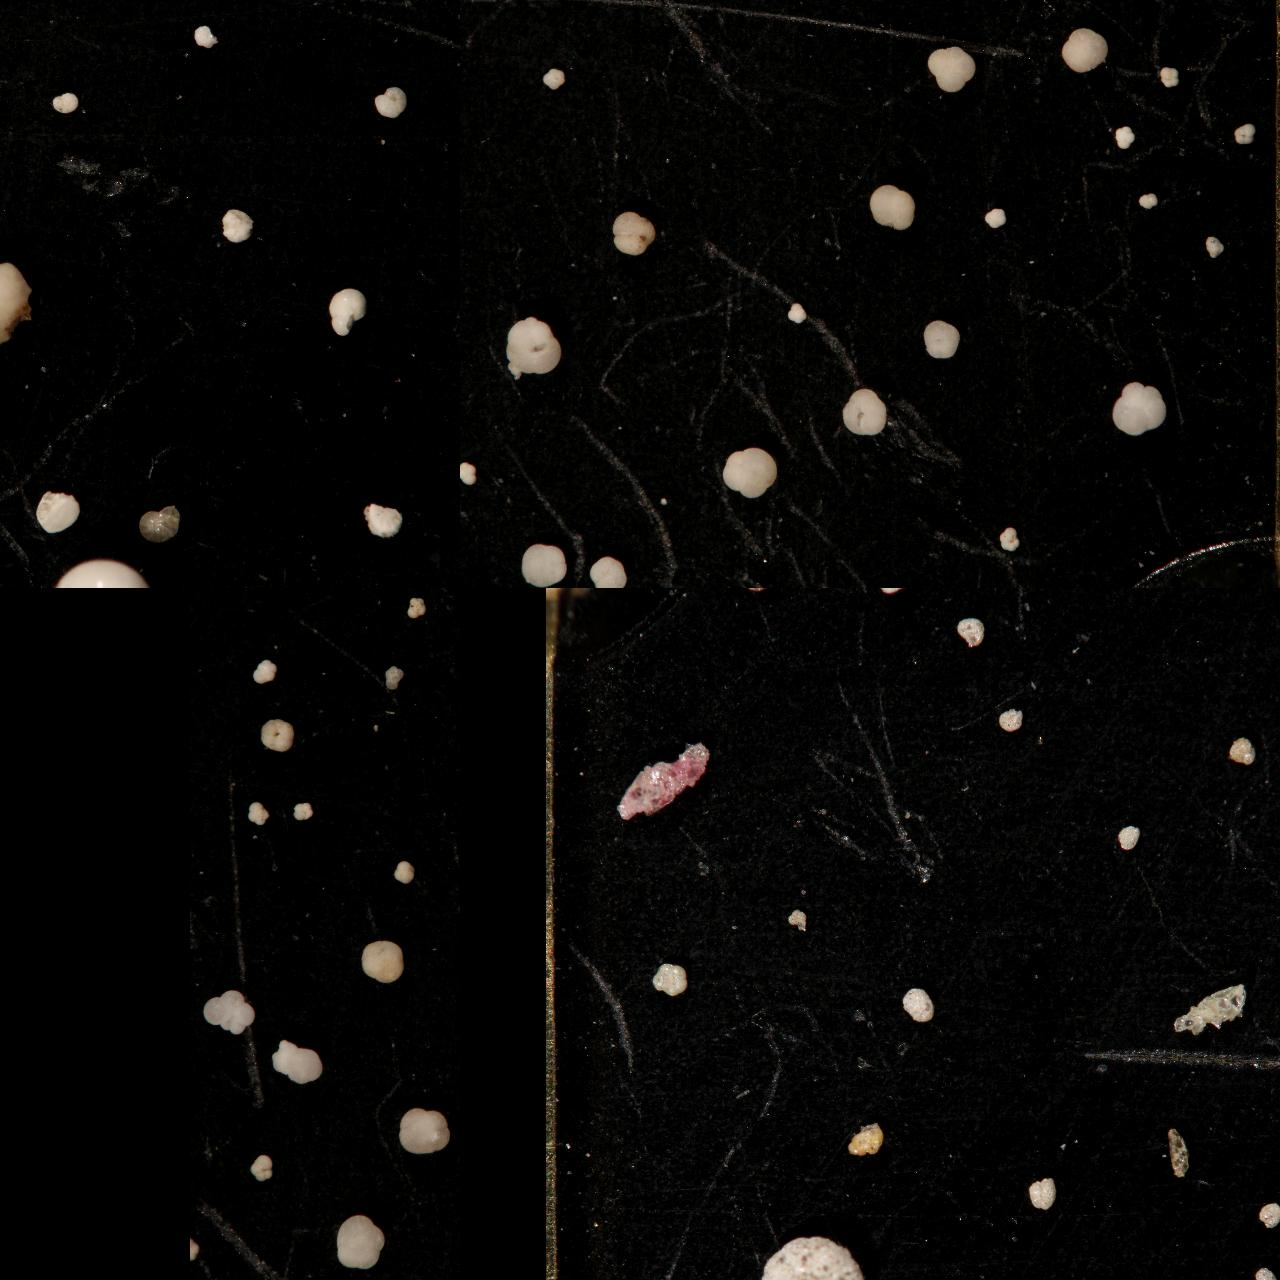agglutinated: (617, 741, 710, 823), (760, 1235, 865, 1280), (1171, 985, 1247, 1037), (849, 1122, 884, 1158), (1166, 1126, 1187, 1182), (903, 987, 933, 1023), (653, 964, 686, 995), (1028, 1177, 1056, 1212), (954, 617, 983, 648), (876, 588, 914, 610), (1228, 737, 1255, 767), (999, 708, 1023, 734), (1117, 825, 1141, 851), (1259, 1201, 1280, 1230), (736, 588, 772, 602), (787, 908, 808, 932), (1124, 588, 1153, 605), (1257, 1269, 1278, 1280), (1032, 588, 1051, 598)
calcareous: (35, 559, 159, 588), (0, 260, 38, 349), (329, 286, 367, 338), (35, 490, 79, 533), (139, 504, 179, 545), (363, 503, 401, 539), (374, 86, 409, 120), (222, 209, 251, 245), (0, 0, 23, 35), (108, 0, 147, 19), (0, 526, 18, 561), (32, 0, 62, 20), (195, 26, 218, 50), (52, 94, 79, 115), (39, 0, 68, 19), (373, 0, 399, 18), (0, 77, 15, 107), (0, 57, 13, 89), (0, 319, 8, 365), (301, 0, 329, 12), (0, 12, 11, 42), (0, 0, 25, 13), (231, 0, 256, 12), (0, 164, 11, 189), (229, 0, 253, 11), (0, 0, 15, 16), (0, 0, 16, 15), (0, 0, 16, 14), (410, 0, 431, 11), (0, 0, 13, 14), (0, 0, 15, 11), (0, 0, 12, 12), (0, 0, 11, 11)
planktic: (504, 316, 561, 381), (1111, 381, 1166, 438), (722, 447, 779, 501), (335, 1212, 384, 1272), (199, 988, 256, 1036), (399, 1107, 451, 1155), (926, 46, 976, 95), (869, 183, 918, 231), (1062, 26, 1109, 76), (358, 937, 404, 987), (271, 1041, 324, 1085), (520, 540, 567, 588), (842, 387, 886, 437), (611, 211, 658, 258), (924, 319, 960, 361), (587, 554, 628, 588), (259, 716, 295, 754), (403, 588, 455, 614), (278, 588, 328, 614), (546, 0, 591, 23), (852, 0, 896, 23), (1006, 0, 1047, 22), (545, 0, 585, 21), (681, 0, 720, 21), (248, 1153, 273, 1183), (595, 0, 633, 19), (251, 659, 277, 686), (982, 205, 1008, 231), (382, 663, 406, 692), (998, 525, 1020, 553), (542, 67, 566, 91), (1233, 122, 1257, 147), (1114, 123, 1135, 150), (247, 801, 268, 828), (1158, 63, 1179, 89), (835, 0, 867, 16), (393, 860, 415, 884), (292, 799, 313, 824), (1205, 234, 1225, 259), (787, 301, 806, 325), (406, 595, 425, 619), (1085, 0, 1114, 16), (459, 461, 477, 486), (1137, 191, 1159, 211), (301, 588, 331, 601), (459, 0, 479, 19), (1065, 0, 1089, 15), (736, 0, 763, 13), (761, 0, 787, 13), (906, 0, 934, 12), (189, 588, 211, 602), (1033, 0, 1054, 14)
